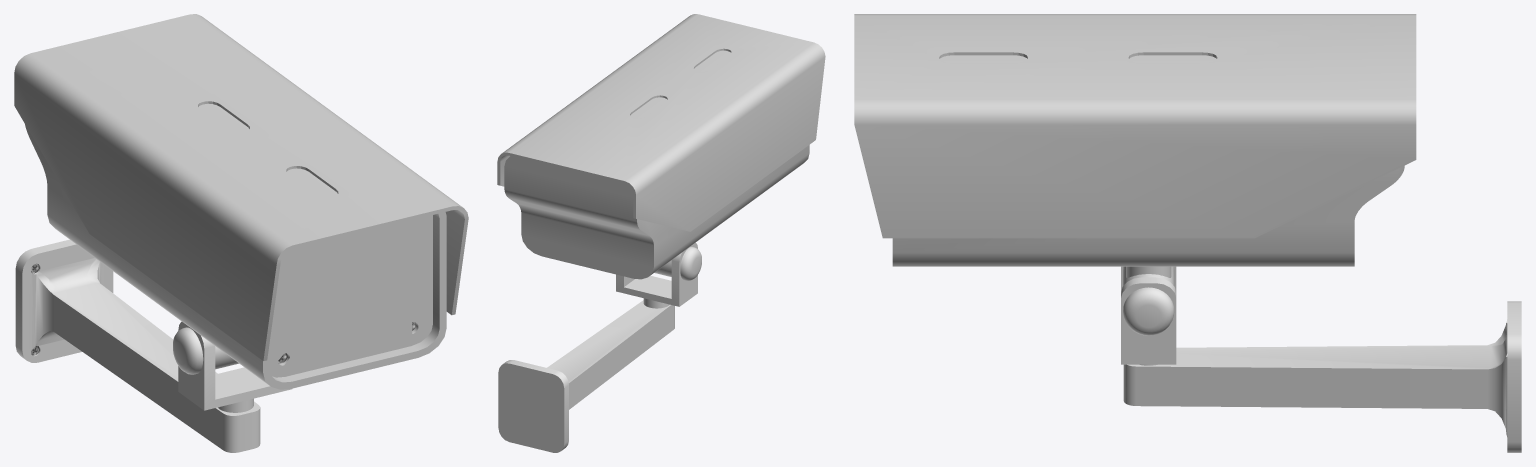
The model's file is uploads_files_3387660_SecurityCamera.fbx.
3 renders of one model, left to right at view 1: azimuth 30°, elevation 25°; view 2: azimuth 150°, elevation 25°; view 3: azimuth 270°, elevation 25°, orthographic. The views are drawn at different scales.
Parts seen in each view (by area): view 1: Cylinder, Cube.002, Cube.001; view 2: Cylinder, Cube.002, Cube.001; view 3: Cylinder, Cube.002, Cube.001.
Boxes of the visible parts, <box> form: Cylinder: <box>14,14,468,389</box>; Cube.002: <box>15,239,260,452</box>; Cube.001: <box>178,321,291,412</box>; Cylinder: <box>497,14,825,280</box>; Cube.002: <box>498,300,674,452</box>; Cube.001: <box>616,242,697,308</box>; Cylinder: <box>854,14,1416,335</box>; Cube.002: <box>1123,301,1521,452</box>; Cube.001: <box>1121,266,1176,365</box>.
Size of the model in its own units: 83.15 by 146 by 234.
Materials: 5 (2 with a texture image).
